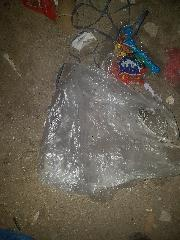general: (110, 56, 144, 86), (71, 31, 97, 51)
plastic: (36, 62, 180, 198)
